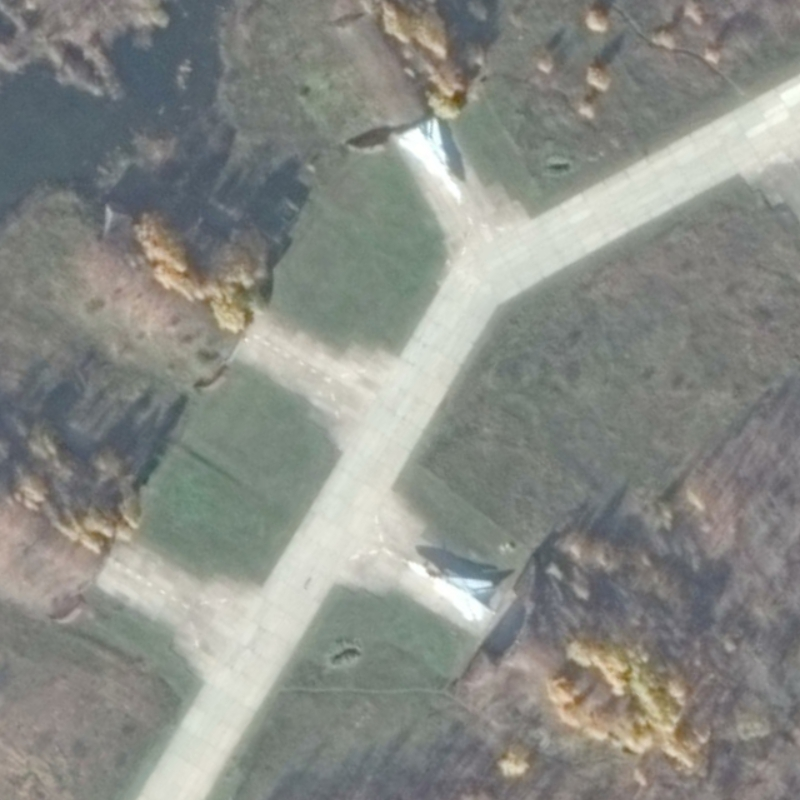A20: (405, 558, 498, 623), (396, 115, 465, 202)
